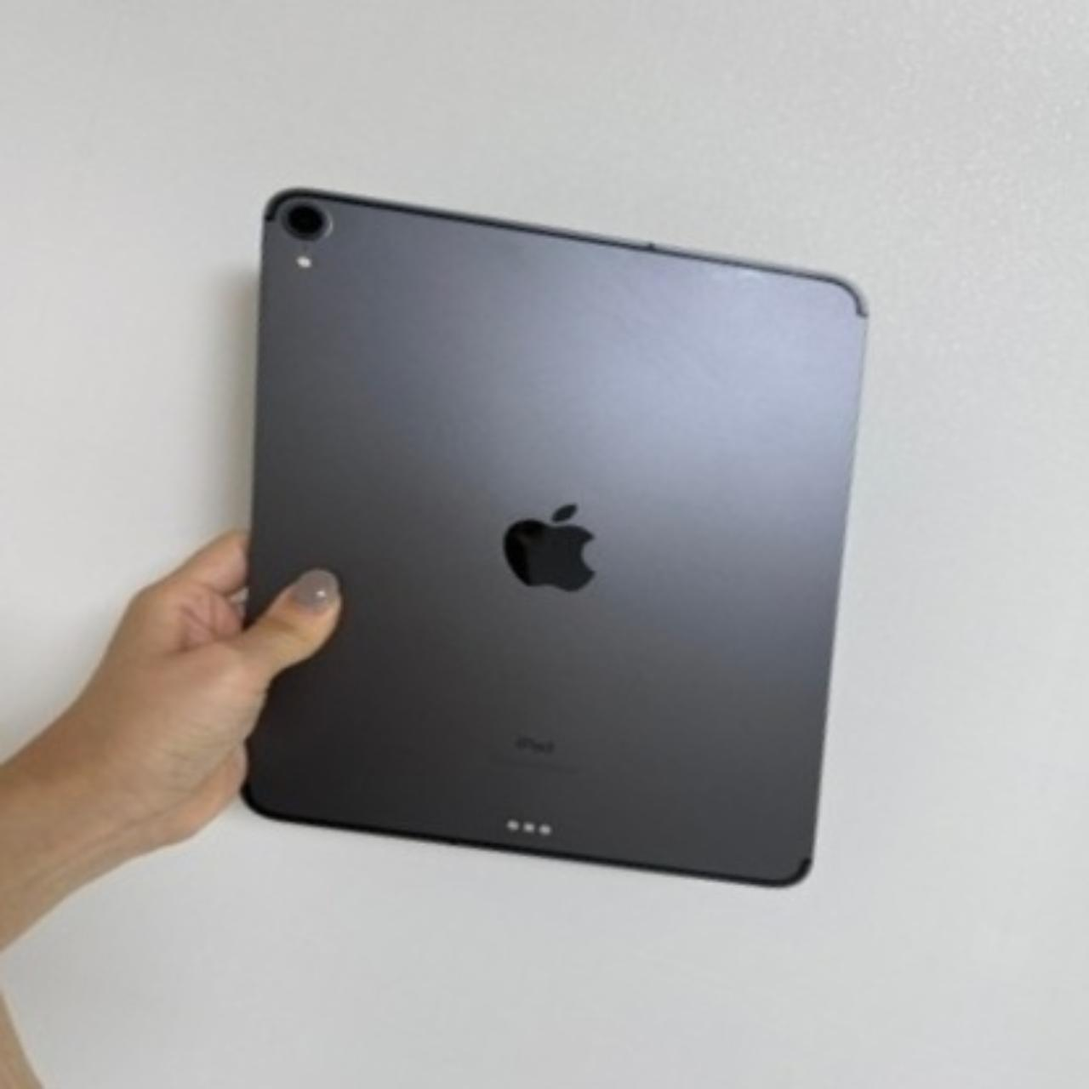Tablet_PC: (96, 120, 972, 984)
